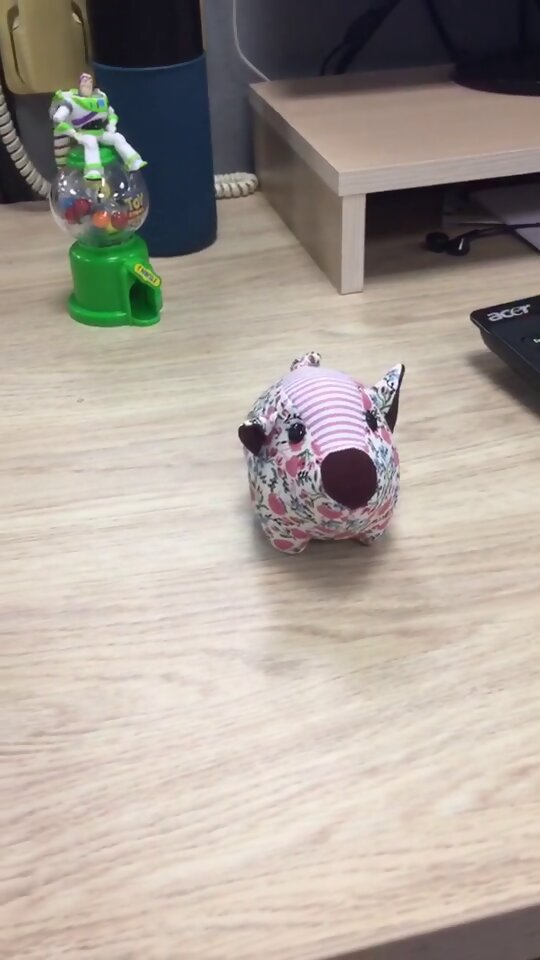pig: (232, 348, 409, 558)
